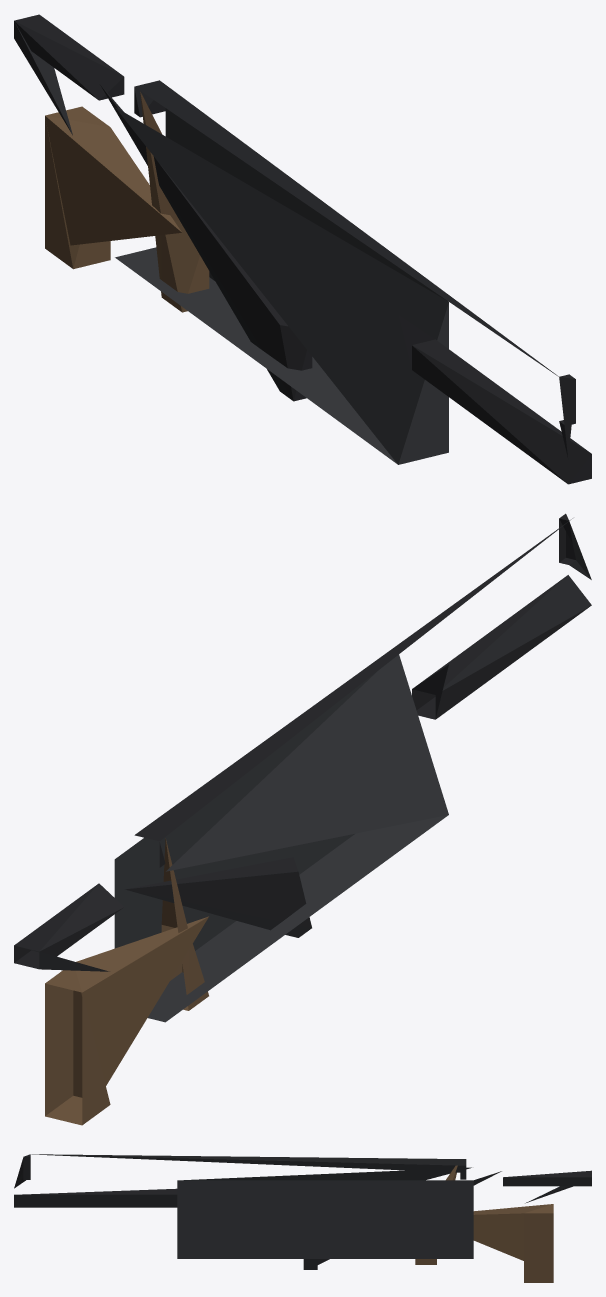
The model's file is famas.obj.
3 views of the same model, one above another, from view 1: azimuth 30°, elevation 25°; view 2: azimuth 150°, elevation 25°; view 3: azimuth 270°, elevation 25° (orthographic). The views are drawn at different scales.
Bounding box in the file's own units: 0.06 × 0.265 × 1.13.
